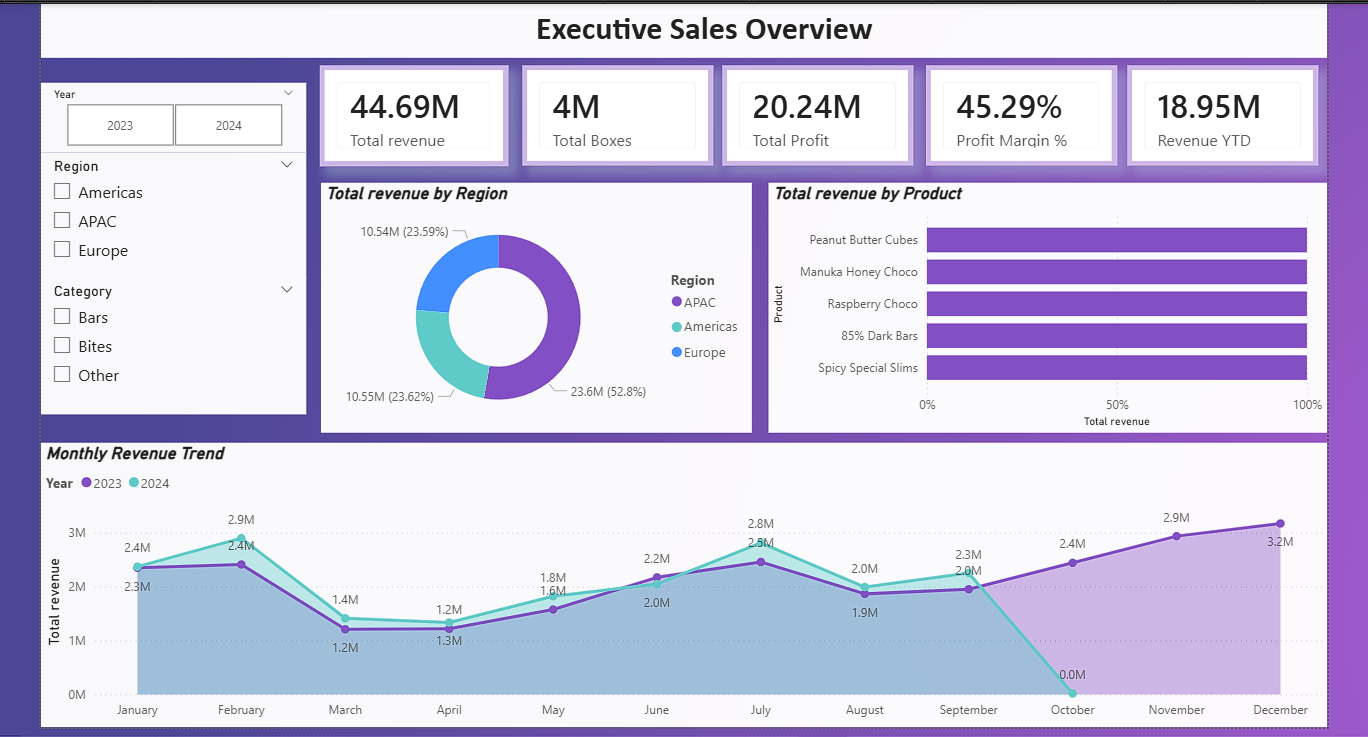

This screenshot's page, from the dashboard's own definition file:
{"tool":"powerbi","page":{"name":"Executive Sales Overview","canvas":[1280,720],"ordinal":0},"visuals":[{"type":"textbox","box":[0,0,1280.3,53.5],"z":0},{"type":"cardVisual","fields":{"Data":["calendar.Total revenue"]},"box":[277.4,61,187.8,100.8],"z":1000},{"type":"cardVisual","fields":{"Data":["calendar.Total Boxes"]},"box":[479,61.3,190,100],"z":2000},{"type":"cardVisual","fields":{"Data":["calendar.Total Profit"]},"box":[677.8,61.3,190,100],"z":3000},{"type":"cardVisual","fields":{"Data":["calendar.Profit Margin %"]},"box":[880.3,61.3,190,100],"z":4000},{"type":"cardVisual","fields":{"Data":["calendar.Revenue YTD"]},"box":[1081.5,61.3,190,100],"z":5000},{"type":"slicer","fields":{"Values":["calendar.cal_date.Variation.Date Hierarchy.Year"]},"box":[0,78.9,263.7,69.7],"z":6000},{"type":"slicer","fields":{"Values":["locations.Region"]},"box":[0,147.9,263.8,125],"z":7000},{"type":"slicer","fields":{"Values":["products.Category"]},"box":[0,272.9,263.8,136.2],"z":8000},{"type":"lineChart","title":"Monthly Revenue Trend","fields":{"Category":["calendar.cal_date.Variation.Date Hierarchy.Month"],"Y":["calendar.Total revenue"],"Series":["calendar.cal_date.Variation.Date Hierarchy.Year"]},"box":[0,436.6,1280,283.6],"z":9000},{"type":"donutChart","fields":{"Y":["calendar.Total revenue"],"Category":["locations.Region"]},"box":[278.6,177.9,429.2,248.8],"z":11000},{"type":"hundredPercentStackedBarChart","fields":{"Y":["calendar.Total revenue"],"Category":["products.Product"]},"box":[724,177.9,556,248.8],"z":12000}]}

Visuals, with their boxes in screenshot pixels (x1, y1, x2, y2):
textbox: (36, 0, 1329, 54)
cardVisual - calendar.Total revenue: (316, 62, 505, 163)
cardVisual - calendar.Total Boxes: (519, 62, 711, 163)
cardVisual - calendar.Total Profit: (720, 62, 912, 163)
cardVisual - calendar.Profit Margin %: (925, 62, 1117, 163)
cardVisual - calendar.Revenue YTD: (1128, 62, 1320, 163)
slicer - calendar.cal_date.Variation.Date Hierarchy.Year: (36, 80, 302, 150)
slicer - locations.Region: (36, 149, 302, 276)
slicer - products.Category: (36, 276, 302, 413)
"Monthly Revenue Trend" lineChart: (36, 441, 1328, 727)
donutChart - calendar.Total revenue x locations.Region: (317, 180, 751, 431)
hundredPercentStackedBarChart - calendar.Total revenue x products.Product: (767, 180, 1328, 431)
